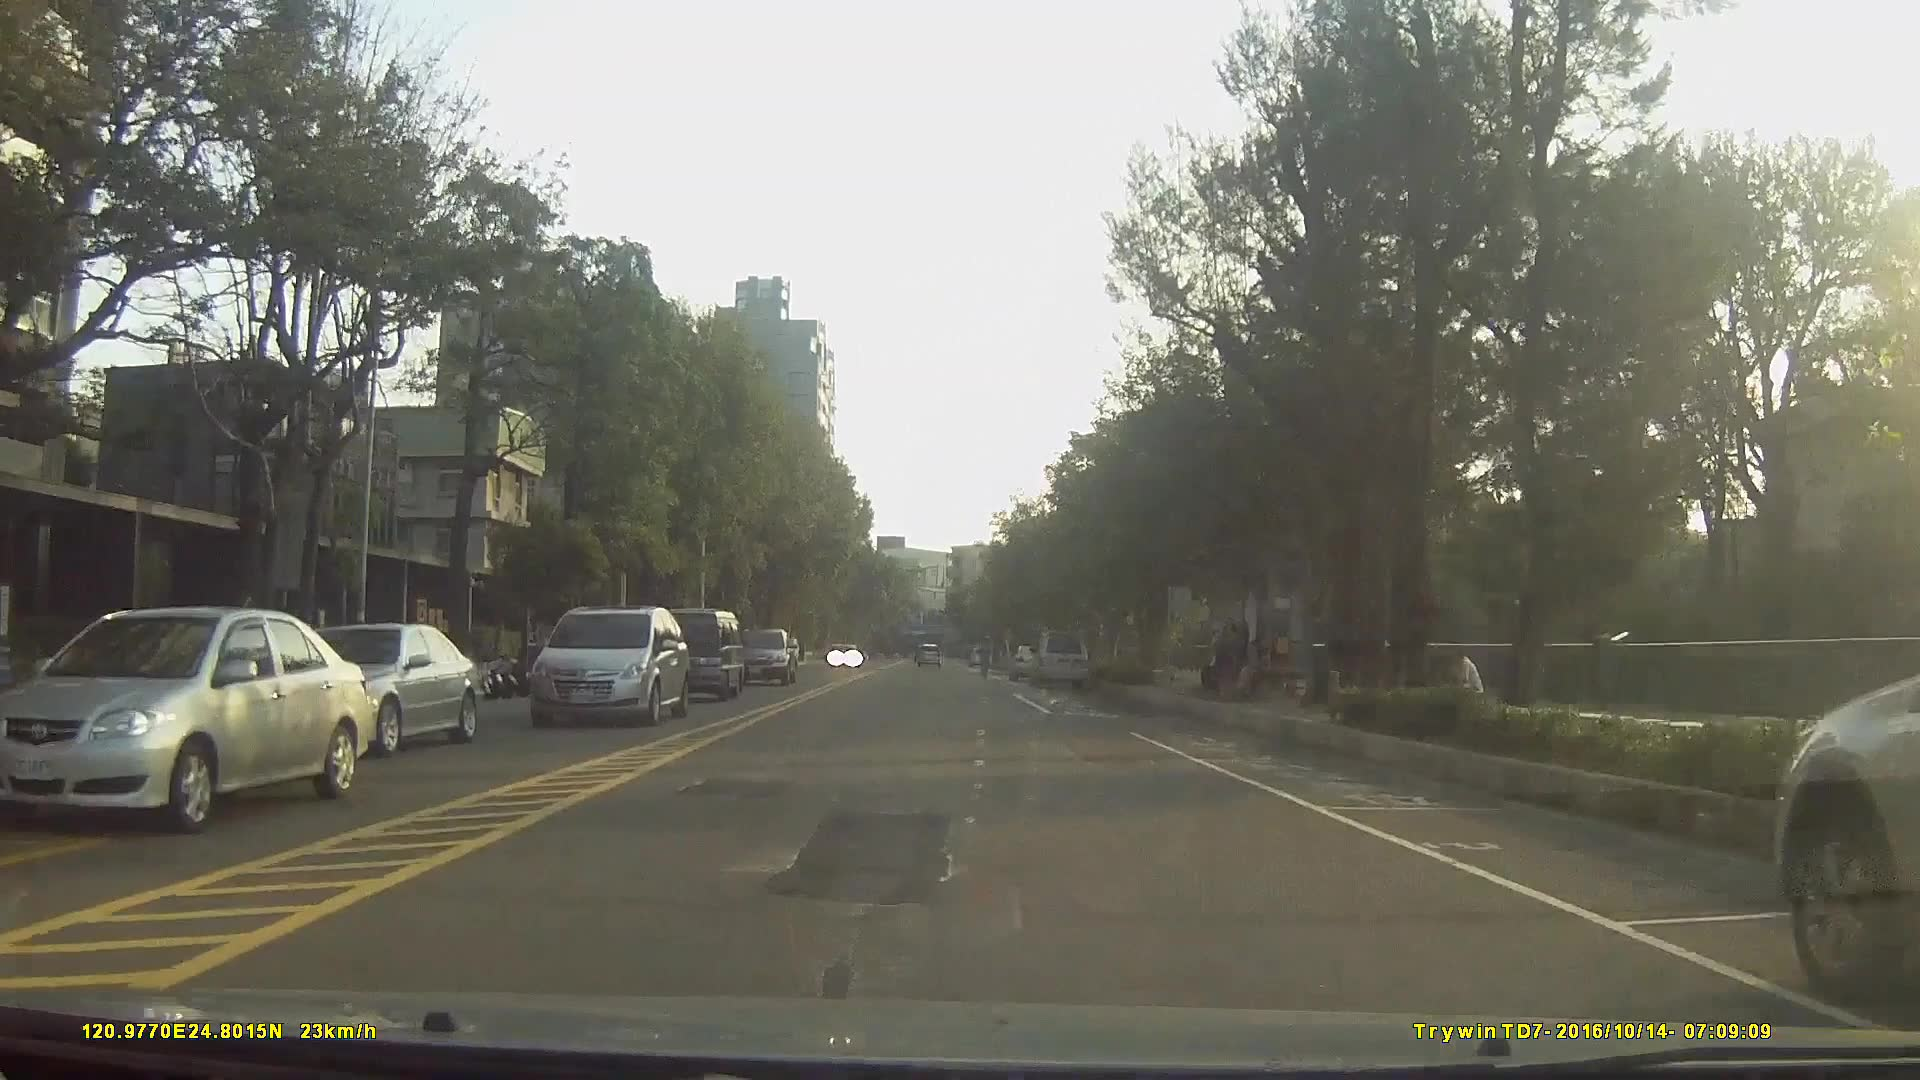rider: (974, 633, 994, 679)
vehicle: (0, 603, 369, 830), (1777, 663, 1919, 998), (286, 622, 478, 754), (524, 604, 689, 725), (642, 602, 744, 697), (727, 624, 794, 682), (1026, 624, 1087, 685), (1007, 641, 1047, 682), (916, 641, 942, 664)
